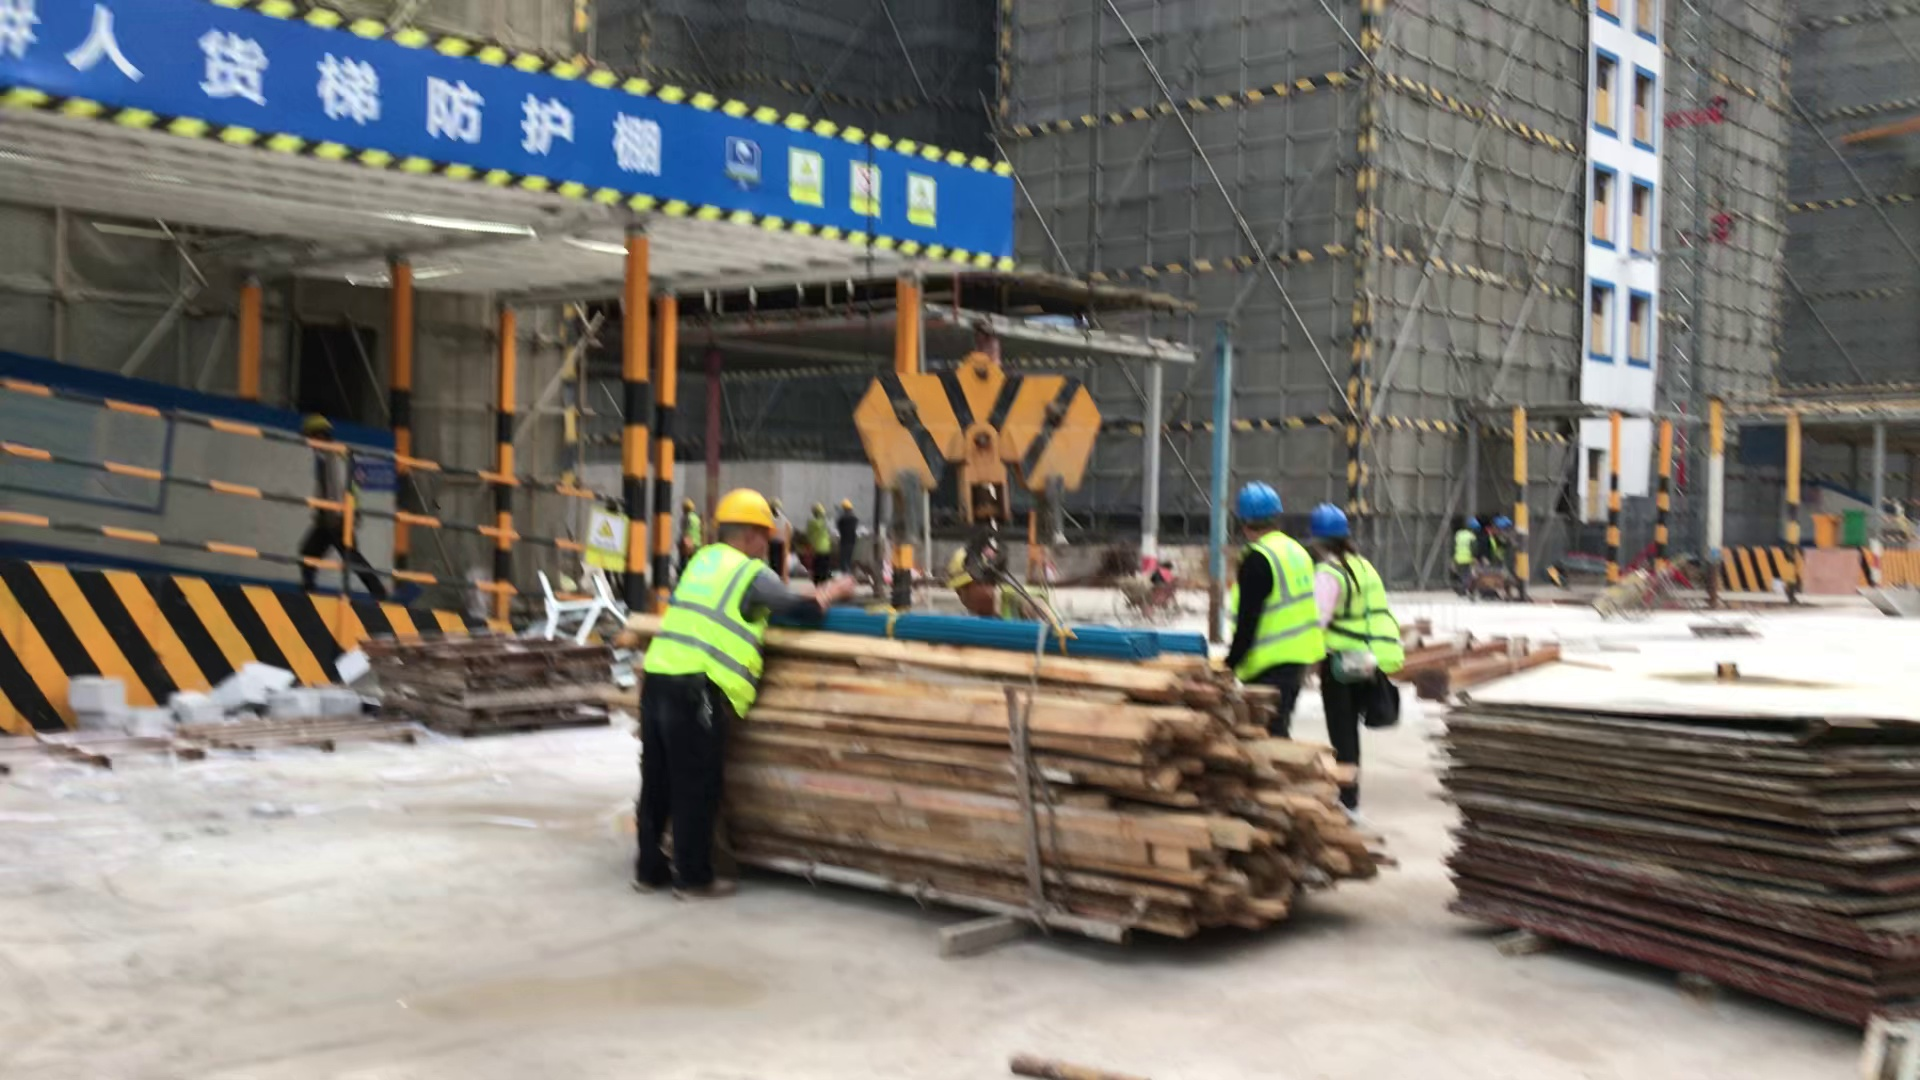board: (1432, 676, 1920, 1036)
helmet: (699, 487, 778, 532), (1237, 480, 1286, 522), (1308, 501, 1351, 544), (838, 495, 853, 515), (681, 495, 696, 511), (1465, 517, 1482, 530), (814, 498, 826, 515), (1498, 515, 1514, 528)
hook: (848, 342, 1101, 513)
hopper: (1848, 577, 1917, 620)
person: (639, 488, 859, 906), (1307, 498, 1407, 828), (1217, 476, 1331, 743), (807, 500, 837, 582), (1451, 515, 1481, 595), (765, 488, 790, 575), (678, 495, 703, 557), (842, 496, 858, 568), (1493, 511, 1517, 553)
slogan: (12, 6, 1025, 286)
vest: (1211, 527, 1403, 684), (637, 537, 775, 723)
wood: (637, 599, 1405, 949)
